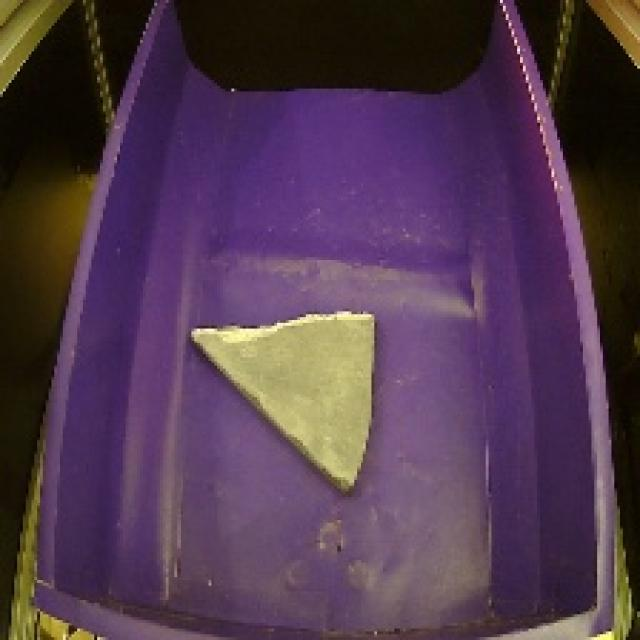china: (180, 298, 389, 500)
